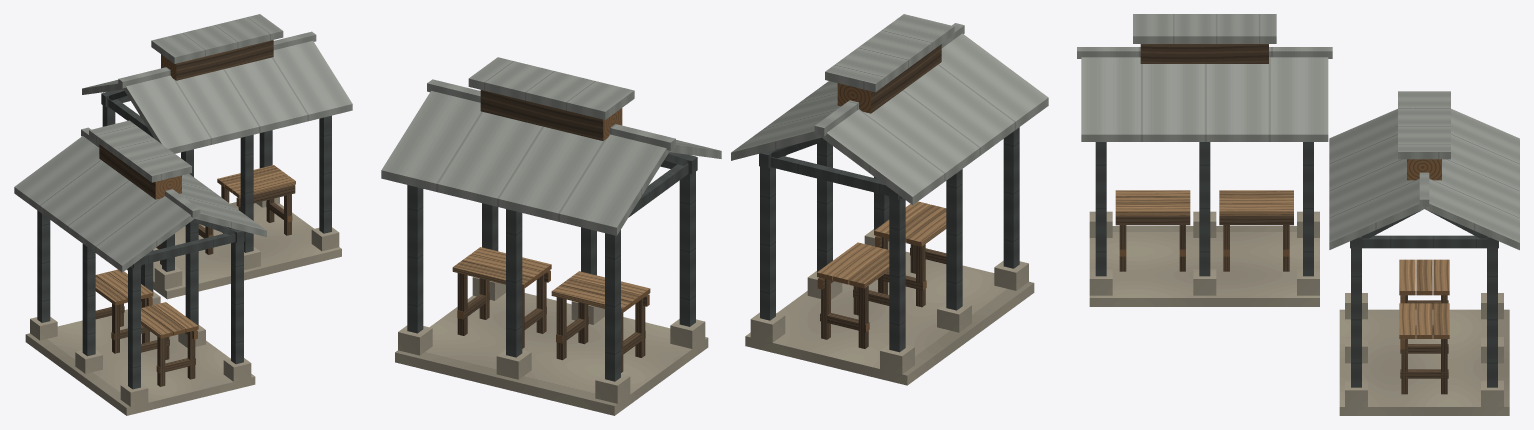
File: port-vila.glb
3 renders of one model, left to right at view 1: azimuth 30°, elevation 25°; view 2: azimuth 150°, elevation 25°; view 3: azimuth 270°, elevation 25°, orthographic. The views are drawn at different scales.
Parts seen in each view (by area): view 1: port-vila; view 2: port-vila; view 3: port-vila.
Part boxes in pixels (bbox=[...]): port-vila: bbox=[14, 14, 352, 415]; port-vila: bbox=[381, 14, 1048, 415]; port-vila: bbox=[1077, 14, 1519, 415].
Bounding box in the file's own units: 4.16 × 2.5 × 4.08.
1 material, 1 textured.
